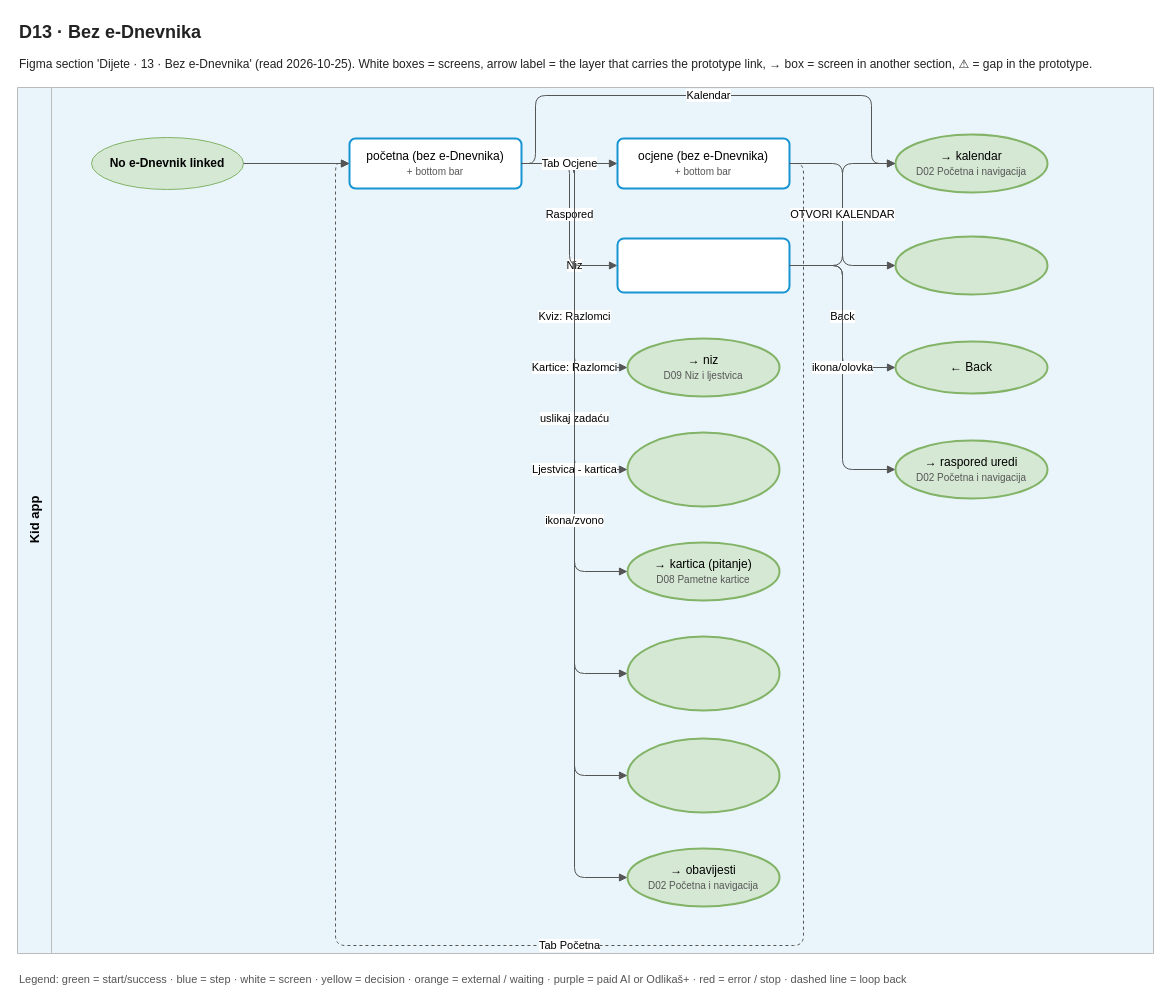
This 1171x1006 diagram has some shape labels left out. Here are the shapes that lost their labels. From the top down, the box of each, then its label:
(616, 237, 790, 293): raspored (bez e-Dnevnika)
(894, 235, 1048, 295): → predmet (Matematika) D02 Početna i navigacija
(626, 431, 780, 507): → kviz D03 Zaključano → kviz → otključa
(626, 635, 780, 711): → fotografija zadaće D04 Zaključano → fotografija zad
(626, 737, 780, 813): → ljestvica (nisi pridružen) D09 Niz i ljestvica
